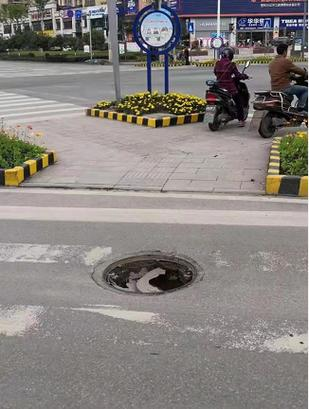broke: (81, 234, 212, 310)
